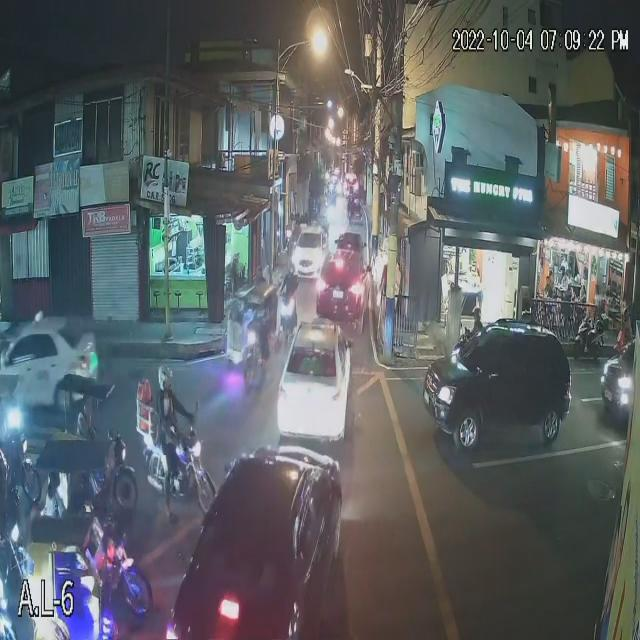helmet: (157, 369, 172, 388), (473, 306, 482, 321)
motorcycle: (136, 419, 218, 520), (573, 318, 606, 362), (277, 306, 299, 350), (452, 325, 470, 352)
rider: (154, 390, 194, 523), (280, 274, 301, 315), (472, 321, 481, 331)
